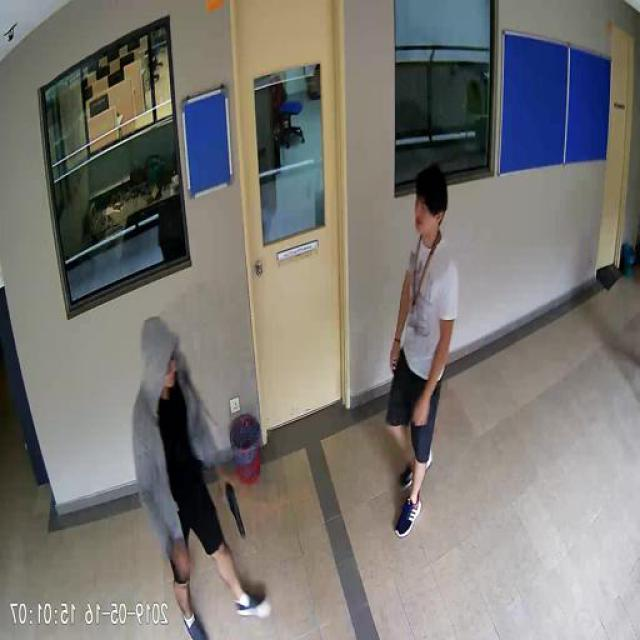Gun: (224, 475, 246, 535)
